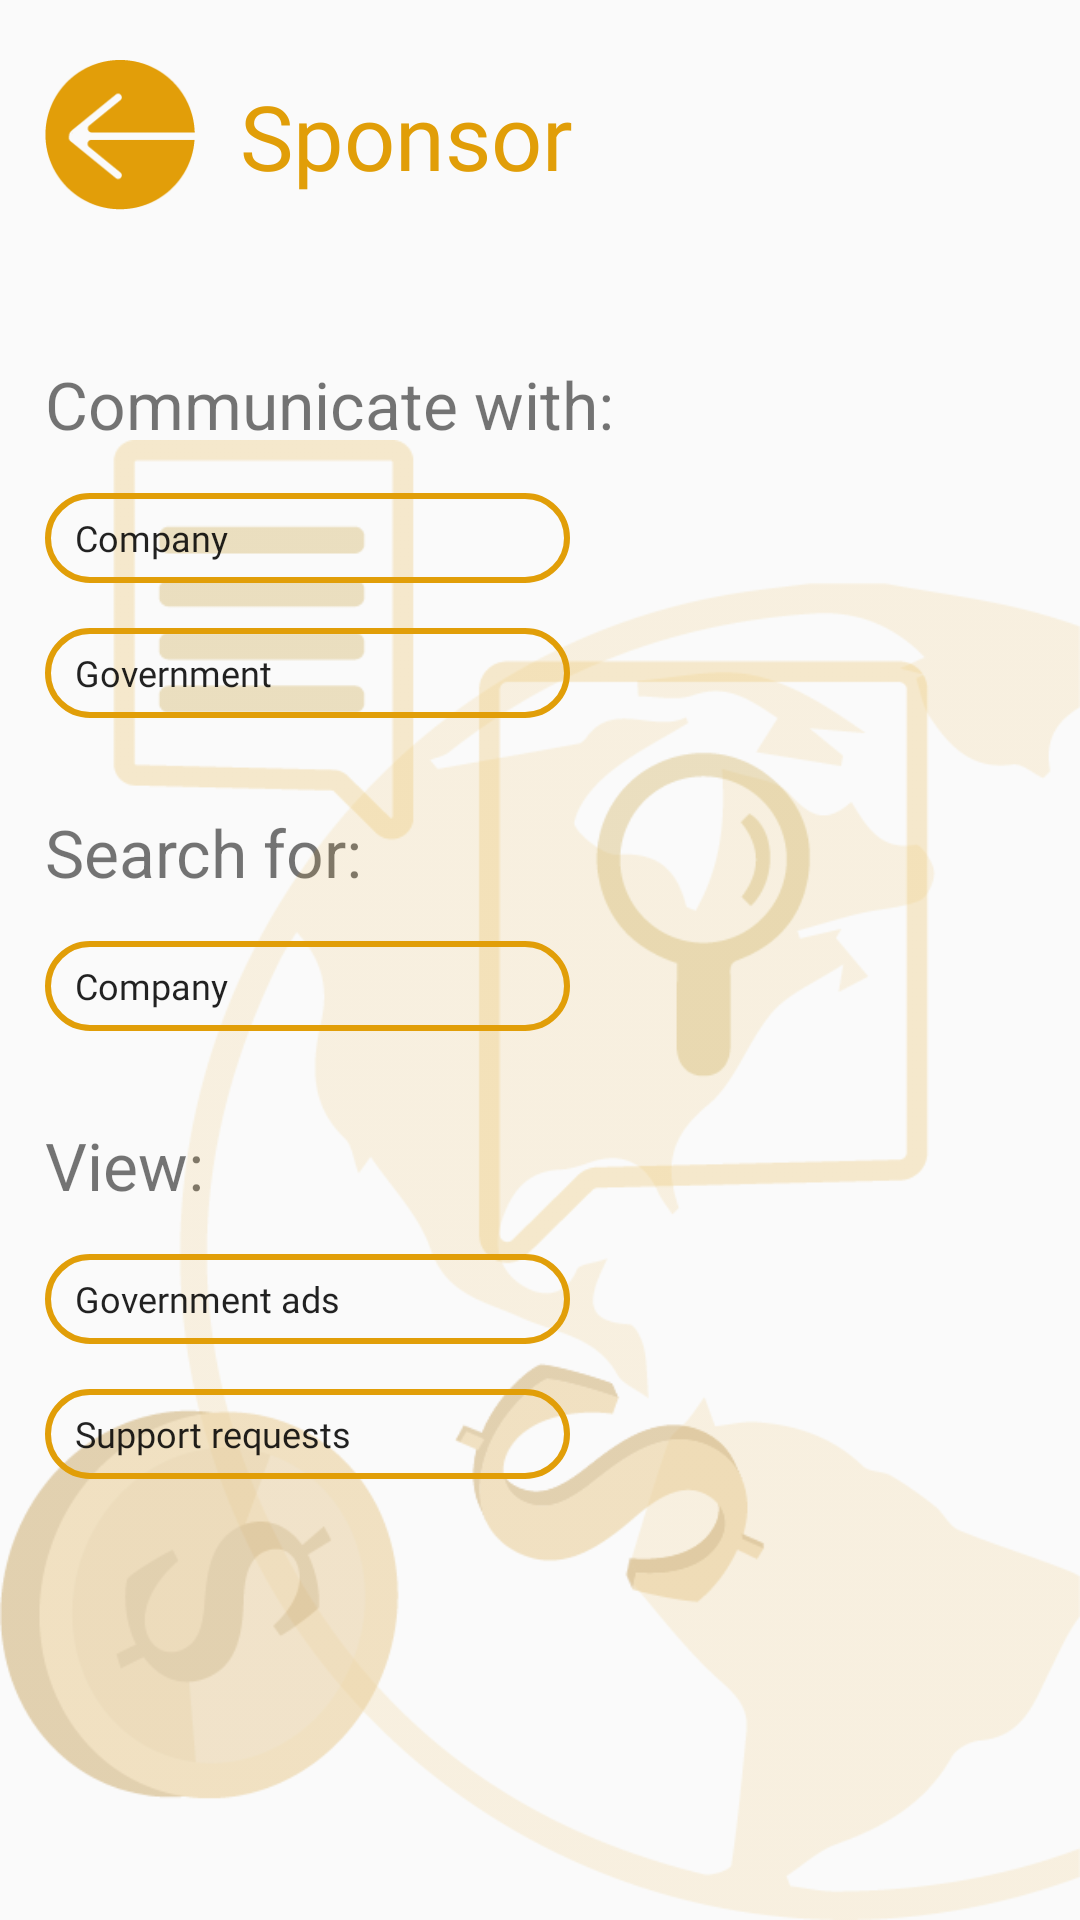

Icon click points for this 1080w x 1920h phone screenshot, format (x,y):
back: (120,135)
